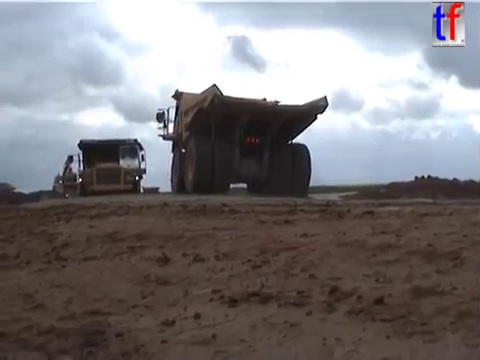excavator: (50, 152, 89, 200)
truck: (153, 80, 332, 199), (65, 136, 150, 205)
